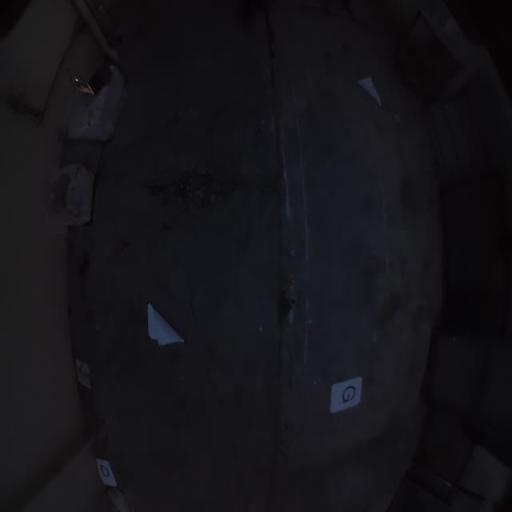D: (94, 456, 118, 488)
G: (329, 376, 362, 413)
